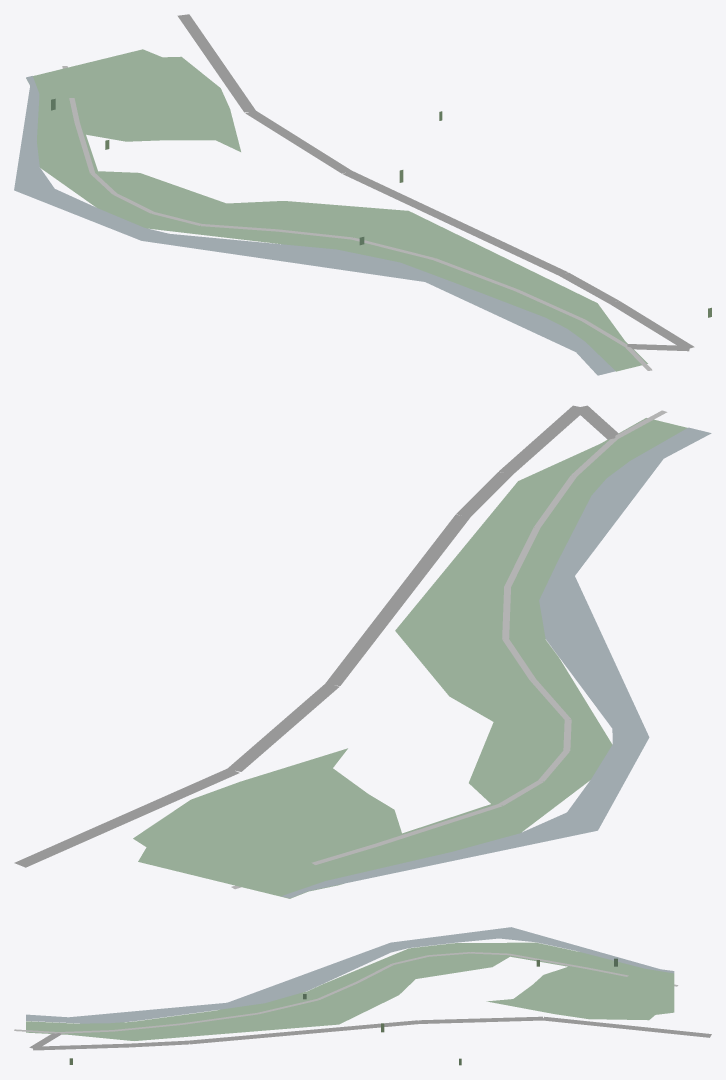
3 views of the same model, one above another, from view 1: azimuth 30°, elevation 25°; view 2: azimuth 150°, elevation 25°; view 3: azimuth 270°, elevation 25° (orthographic). The views are drawn at different scales.
Size of the model in its own units: 253 by 8.2 by 538.
